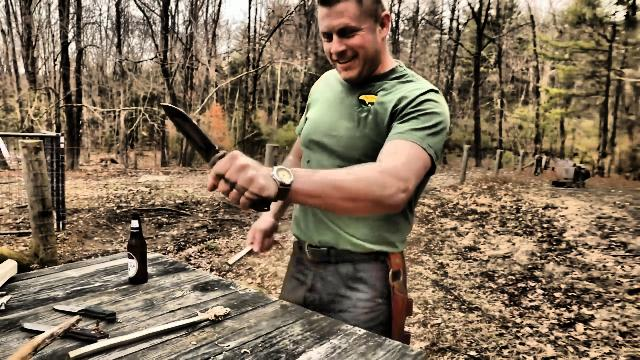knife: (153, 90, 270, 210)
